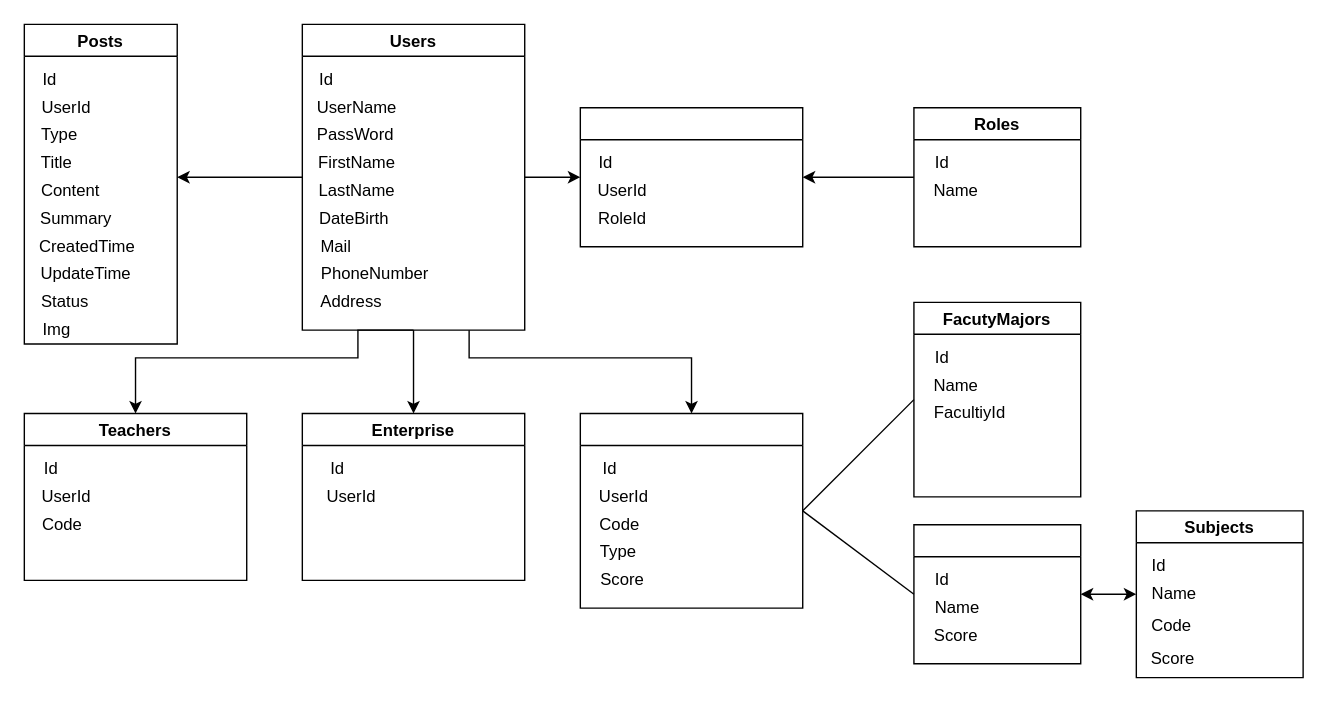
This 1327x702 diagram has some shape labels left out. The box of each missing label's shape, as (x1, y1, x2, y2) in pixels:
Students: (579, 412, 803, 608)
Transcripts: (913, 523, 1081, 664)
UserRoles: (579, 106, 803, 247)
